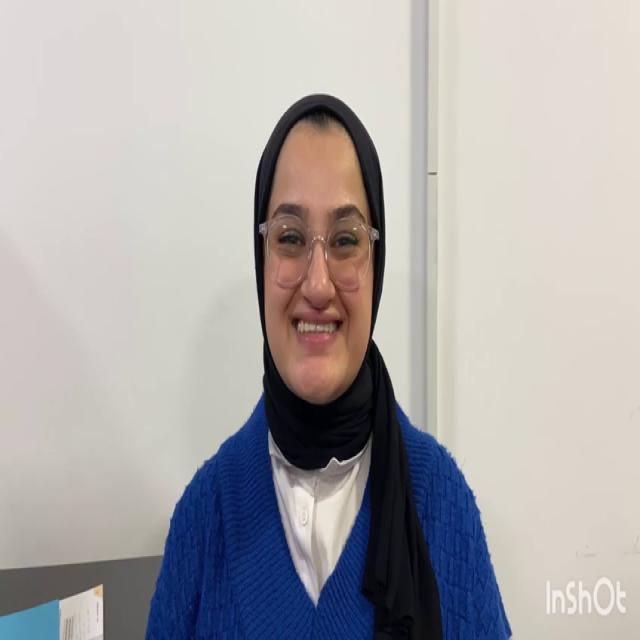happy: (263, 113, 378, 403)
